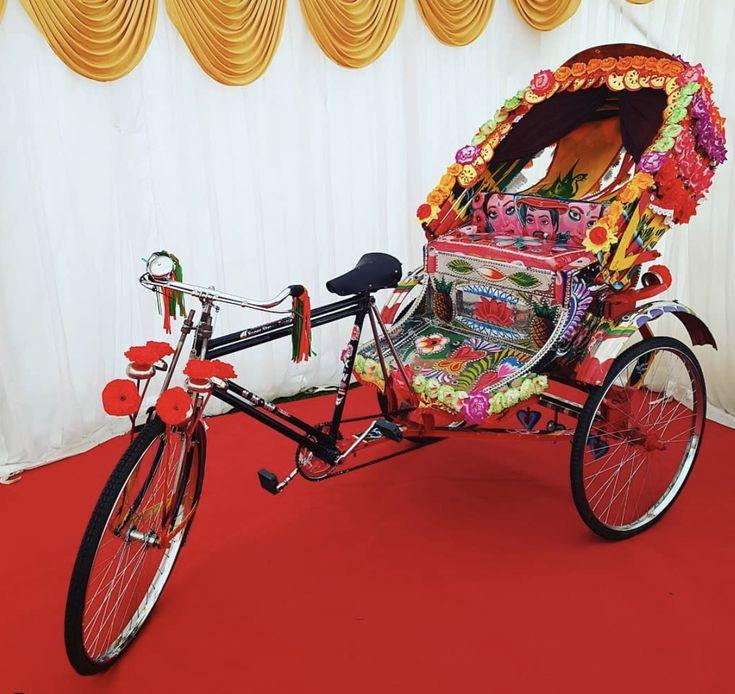Rickshaw: (66, 45, 724, 673)
